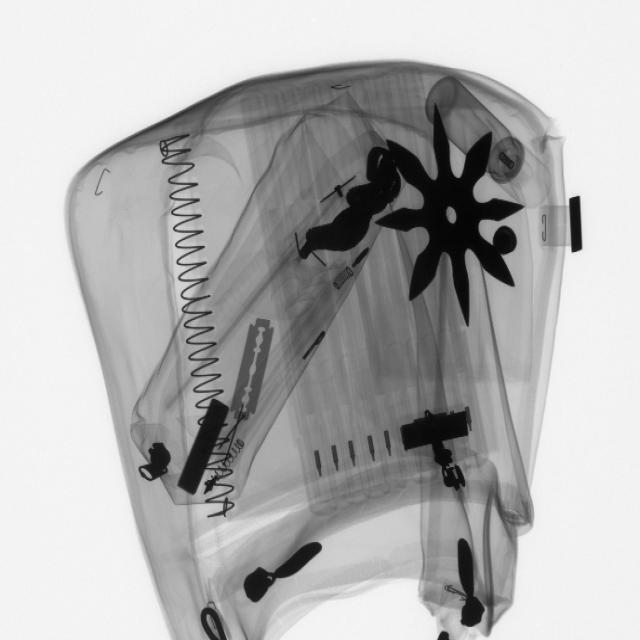BLADE: (229, 311, 283, 427)
SHURIKEN: (375, 109, 527, 331)
